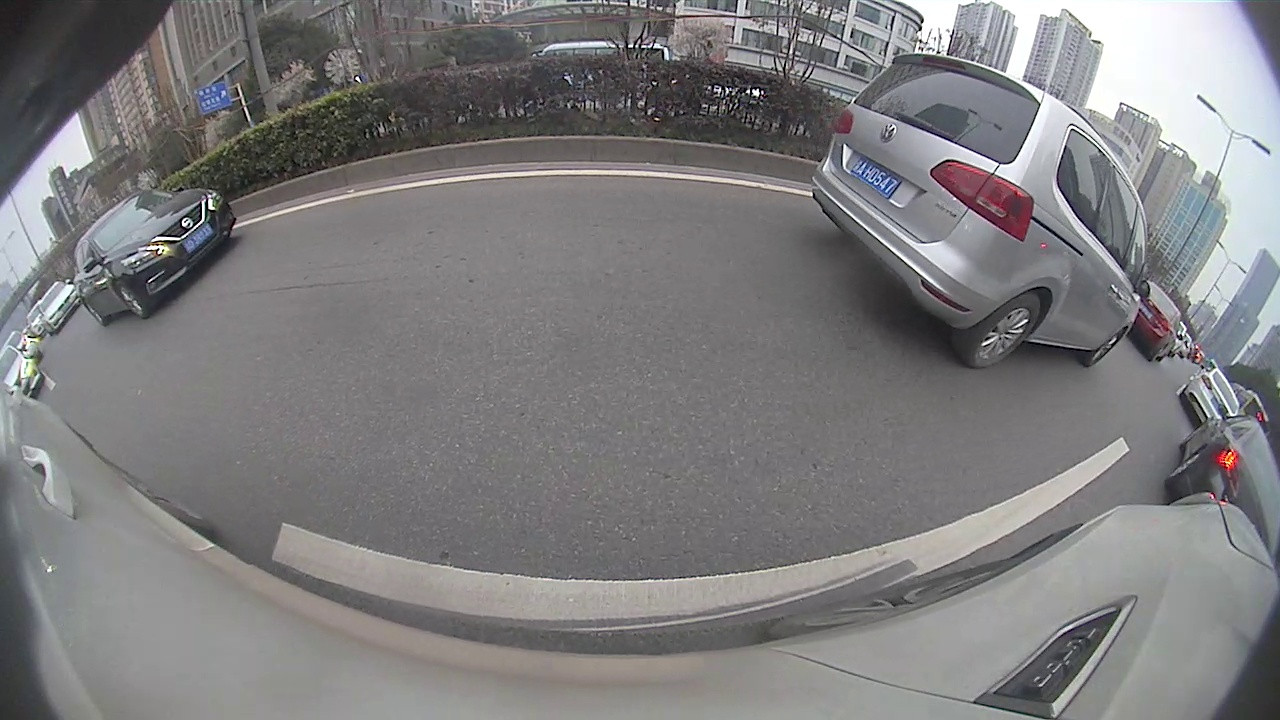car: (809, 53, 1150, 369), (71, 188, 238, 325), (1163, 403, 1279, 562), (1130, 278, 1186, 363), (1179, 359, 1242, 426), (36, 277, 82, 338), (1, 342, 45, 399)
front: (1086, 326, 1125, 366), (111, 281, 150, 319)
rear: (969, 294, 1044, 370)
